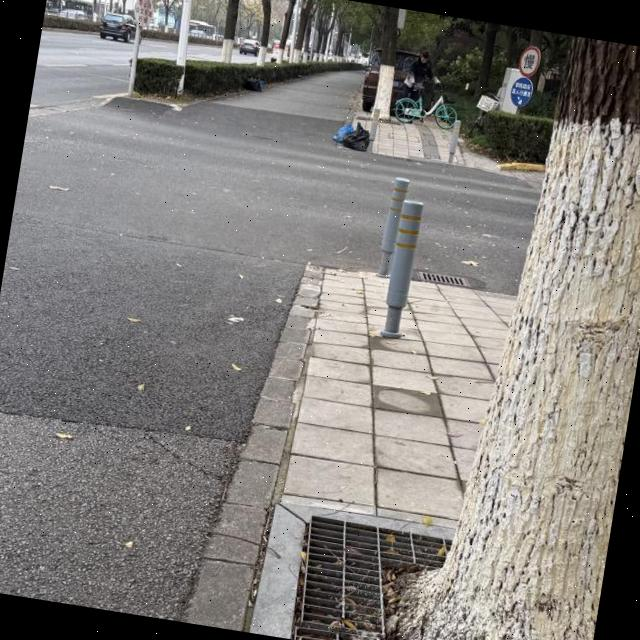curb: (185, 265, 323, 631), (43, 26, 100, 36), (500, 163, 545, 172)
